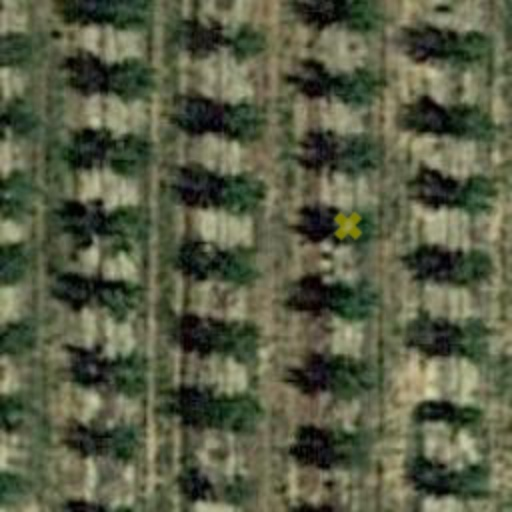cross: (326, 204, 370, 248)
